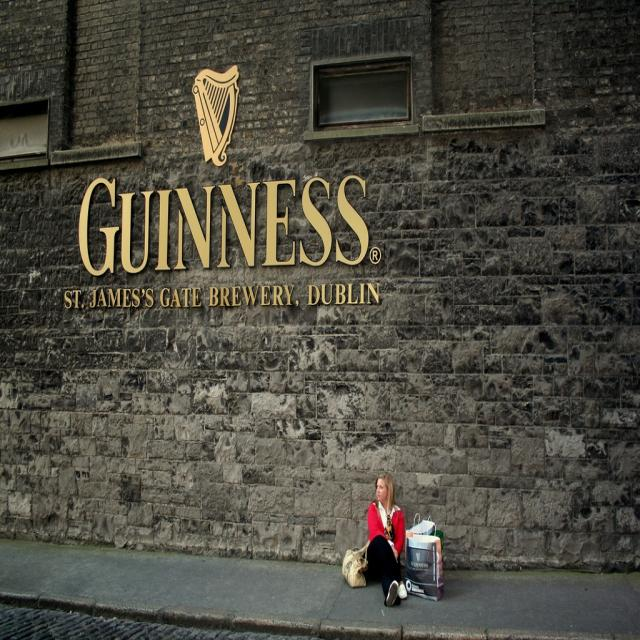guiness: (72, 64, 372, 282)
